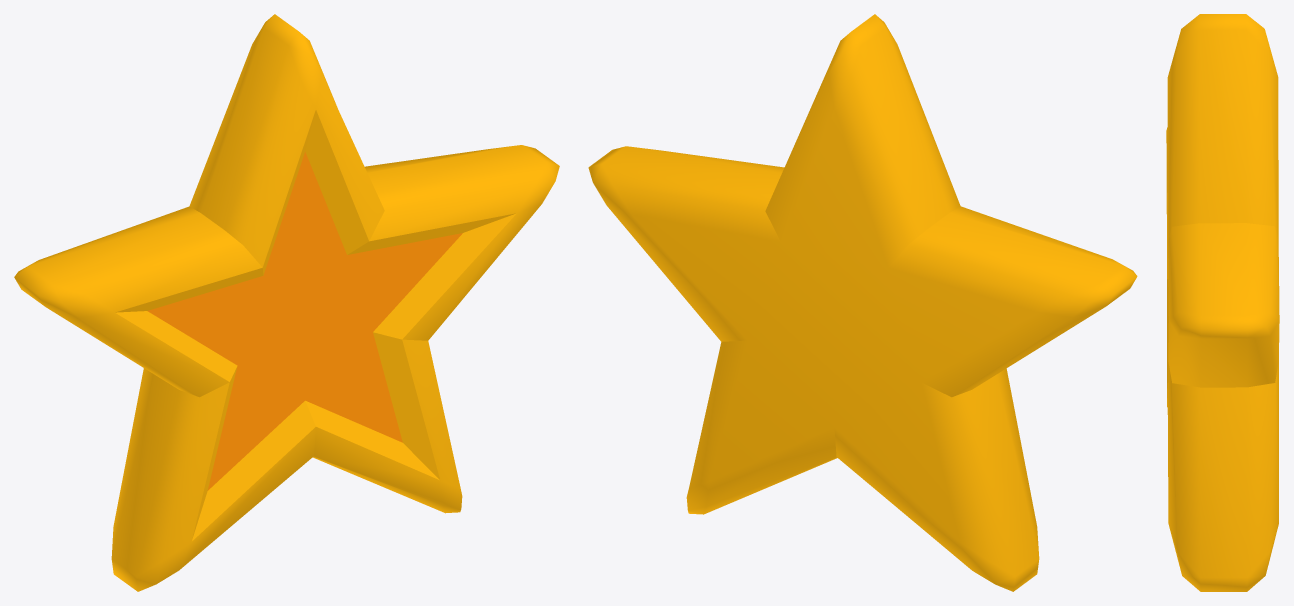
Rendered from star_001.glb.
The picture shows the model from 3 angles, left to right: view 1: azimuth 30°, elevation 25°; view 2: azimuth 150°, elevation 25°; view 3: azimuth 270°, elevation 25°; orthographic projection. The views are drawn at different scales.
Visible parts, largest first — view 1: star_001; view 2: star_001; view 3: star_001.
Boxes of the visible parts, x1,y1,x2,y2 form: star_001: [14, 14, 559, 591]; star_001: [588, 14, 1137, 591]; star_001: [1166, 14, 1279, 591].
Size of the model in its own units: 1.63 by 1.55 by 0.3169.
1 material, 1 textured.
